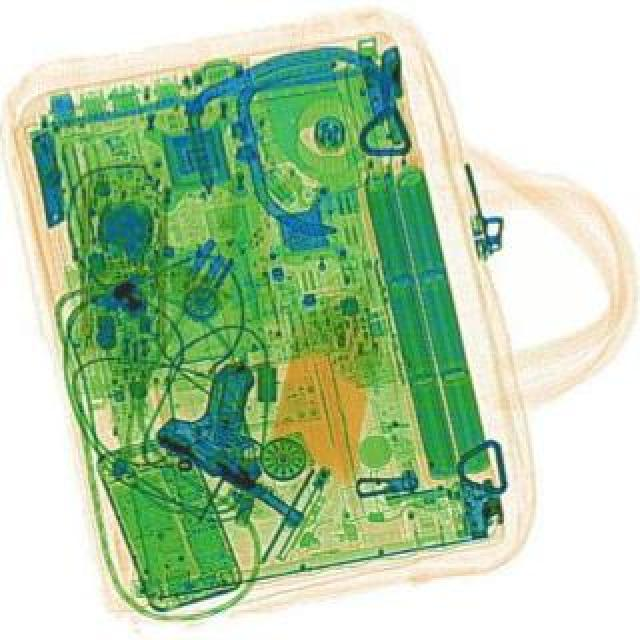gun: (152, 352, 360, 532)
